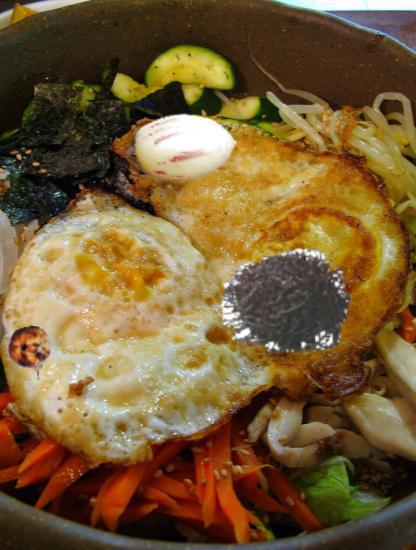Pear: (2, 326, 56, 380)
Pepino: (133, 96, 237, 200)
Rambutan: (220, 234, 354, 368)
